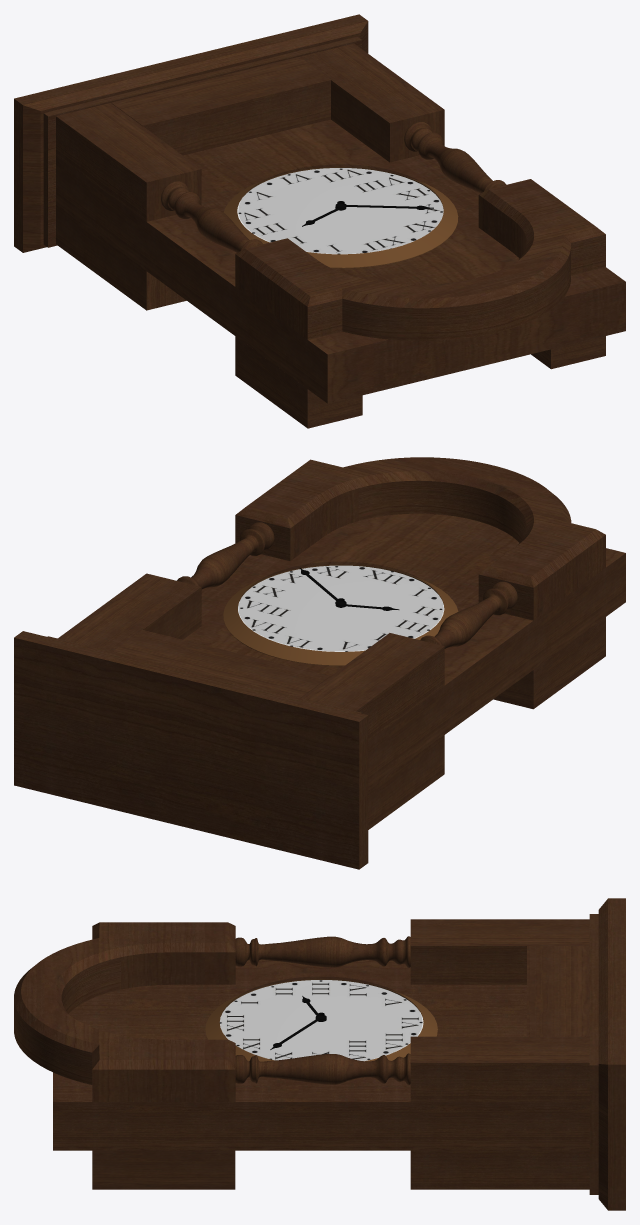
Rendered from clk001.obj.
3 renders of one model, top to bottom at view 1: azimuth 30°, elevation 25°; view 2: azimuth 150°, elevation 25°; view 3: azimuth 270°, elevation 25°, orthographic.
Parts seen in each view (by area): view 1: Rectangle0, Arc02, GeoSphere0, Circle03, Rectangl11, Rectangle4, Rectangle5, Rectangle2, Rectangle1, Rectangle6, Rectangle8, Rectangle3 (+4 smaller); view 2: Rectangle1, Rectangle0, Arc02, GeoSphere0, Circle03, Rectangle4, Rectangle5, Rectangl11, Rectangle8, Donut02, Rectangle6, Line01 (+1 smaller); view 3: Rectangle0, Arc02, GeoSphere0, Circle03, Rectangle5, Rectangle4, Rectangle7, Rectangle9, Rectangl11, Rectangle1, Line01, Line09 (+3 smaller).
Boxes of the visible parts, x1,y1,x2,y2 form: Rectangle0: (56,119,625,403); Arc02: (235,179,605,340); GeoSphere0: (239,165,442,253); Circle03: (237,168,443,254); Rectangl11: (111,56,330,155); Rectangle4: (56,103,201,221); Rectangle5: (300,43,444,162); Rectangle2: (23,21,368,252); Rectangle1: (14,14,367,252); Rectangle6: (56,205,186,310); Rectangle8: (235,336,362,428); Rectangle3: (43,36,361,247); Rectangle1: (14,631,368,869); Rectangle0: (183,513,625,790); Arc02: (235,457,605,620); GeoSphere0: (239,562,442,650); Circle03: (238,565,444,651); Rectangle4: (301,633,444,741); Rectangle5: (58,573,201,651); Rectangl11: (112,630,330,697); Rectangle8: (493,617,605,709); Donut02: (223,564,458,665); Rectangle6: (368,735,444,829); Line01: (420,581,517,648); Rectangle0: (53,959,589,1150); Arc02: (14,922,235,1101); GeoSphere0: (220,977,421,1060); Circle03: (219,980,423,1061); Rectangle5: (410,1036,589,1101); Rectangle4: (410,919,589,984); Rectangle7: (410,1150,589,1189); Rectangle9: (92,1150,235,1189); Rectangl11: (527,946,589,1036); Rectangle1: (608,898,625,1210); Line01: (235,936,410,967); Line09: (235,1053,410,1085).
Bounding box in the file's own units: 293 × 120 × 456.
Materials: 5 (2 with a texture image).
